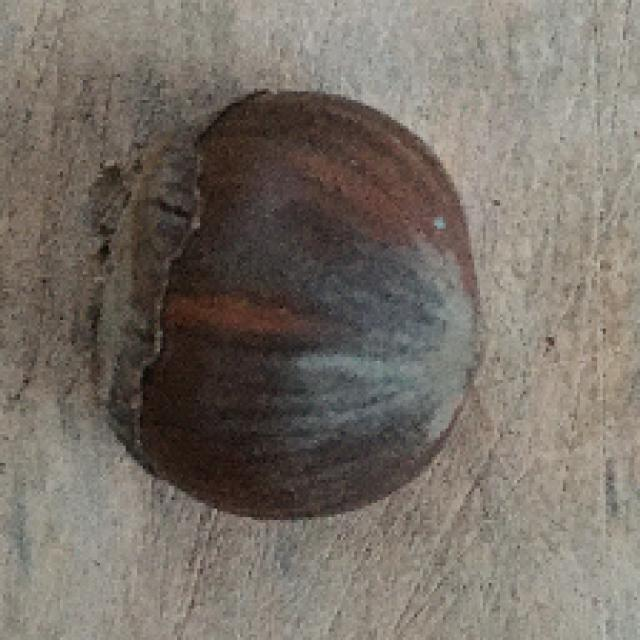damagedHazelnut: (73, 85, 490, 519)
